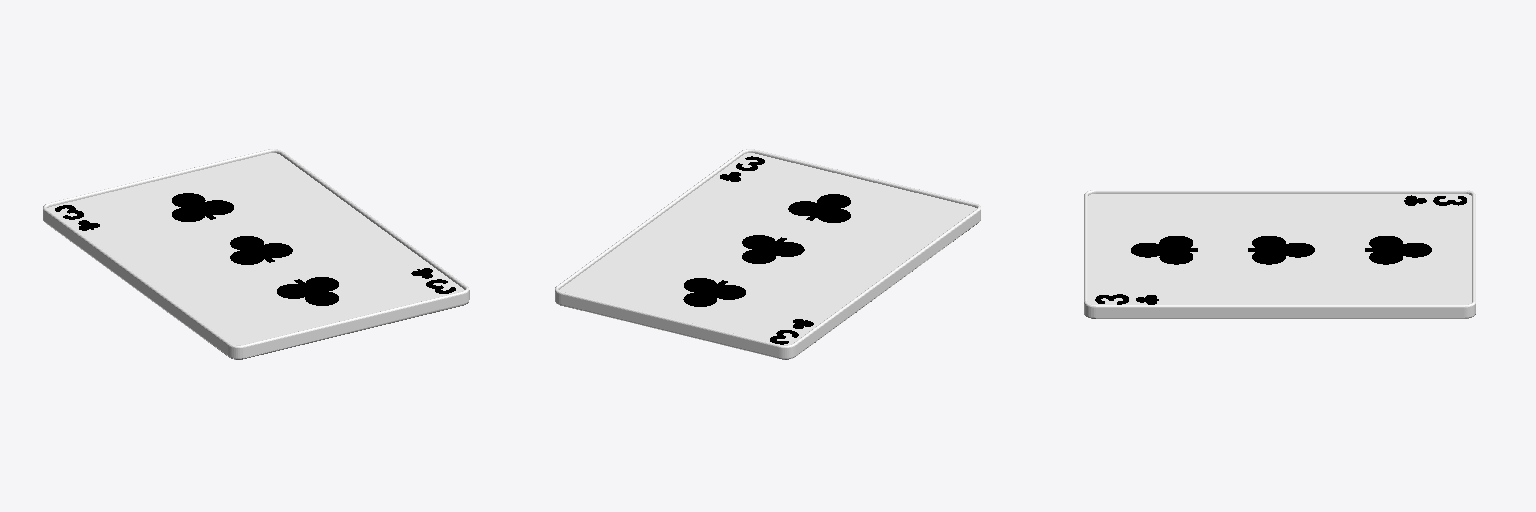
File: clubs_3.obj
3 views of the same model, side by side, from view 1: azimuth 30°, elevation 25°; view 2: azimuth 150°, elevation 25°; view 3: azimuth 270°, elevation 25° (orthographic).
Visible parts, largest first — view 1: rect4266.002, rect4266.056, path3979-1-6-1-1.001, path3979-1-6-1-7-1-5.001, path3979-1-6-1.002, rect4266.110; view 2: rect4266.002, rect4266.056, path3979-1-6-1-1.001, path3979-1-6-1.002, path3979-1-6-1-7-1-5.001; view 3: rect4266.002, rect4266.056, path3979-1-6-1-1.001, path3979-1-6-1.002, path3979-1-6-1-7-1-5.001.
Part boxes in pixels (left/top/right/bottom): rect4266.002: left=47, top=153, right=464, bottom=344; rect4266.056: left=43, top=149, right=469, bottom=358; path3979-1-6-1-1.001: left=230, top=236, right=292, bottom=264; path3979-1-6-1-7-1-5.001: left=277, top=277, right=338, bottom=305; path3979-1-6-1.002: left=172, top=193, right=233, bottom=221; rect4266.110: left=46, top=223, right=468, bottom=359; rect4266.002: left=559, top=153, right=976, bottom=344; rect4266.056: left=555, top=149, right=980, bottom=358; path3979-1-6-1-1.001: left=742, top=235, right=804, bottom=263; path3979-1-6-1.002: left=683, top=278, right=745, bottom=306; path3979-1-6-1-7-1-5.001: left=788, top=194, right=850, bottom=222; rect4266.002: left=1088, top=194, right=1471, bottom=304; rect4266.056: left=1084, top=190, right=1475, bottom=318; path3979-1-6-1-1.001: left=1252, top=236, right=1314, bottom=264; path3979-1-6-1.002: left=1369, top=236, right=1431, bottom=264; path3979-1-6-1-7-1-5.001: left=1131, top=236, right=1192, bottom=264.
Bounding box in the file's own units: 2.88 × 0.1966 × 4.08.